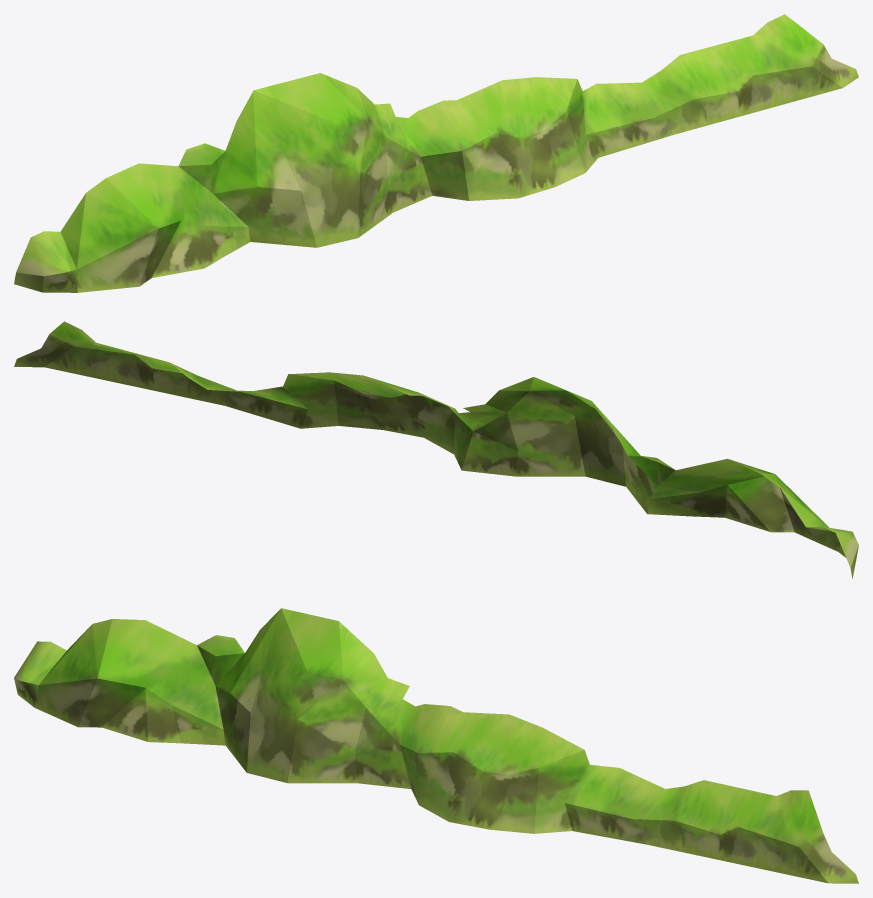
The model's file is OM_S01_ny_rock01BC.fbx.
3 views of the same model, one above another, from view 1: azimuth 30°, elevation 25°; view 2: azimuth 150°, elevation 25°; view 3: azimuth 330°, elevation 25° (orthographic).
Visible parts, largest first — view 1: OM_S01_ny_rock01BC; view 2: OM_S01_ny_rock01BC; view 3: OM_S01_ny_rock01BC.
Part boxes in pixels (<box>): OM_S01_ny_rock01BC: <box>14,14,858,292</box>; OM_S01_ny_rock01BC: <box>14,321,858,579</box>; OM_S01_ny_rock01BC: <box>14,608,858,883</box>.
Bounding box in the file's own units: 1406 × 209 × 146.
